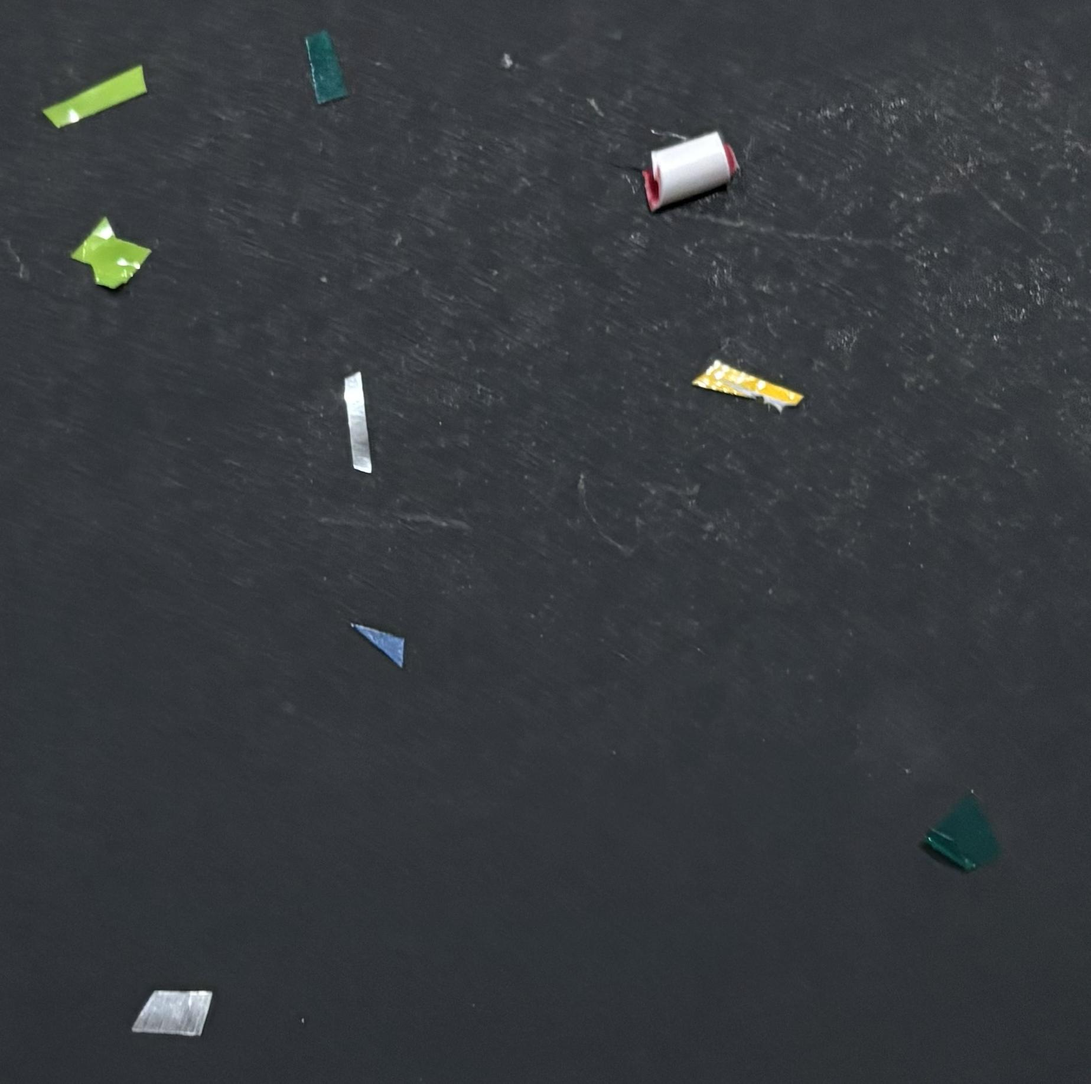Microplastic Particle: (641, 131, 738, 211), (129, 962, 218, 1039), (43, 64, 146, 127), (922, 790, 1000, 872), (692, 359, 804, 411), (71, 217, 151, 288), (304, 29, 347, 104), (343, 370, 372, 472), (349, 622, 403, 668)
